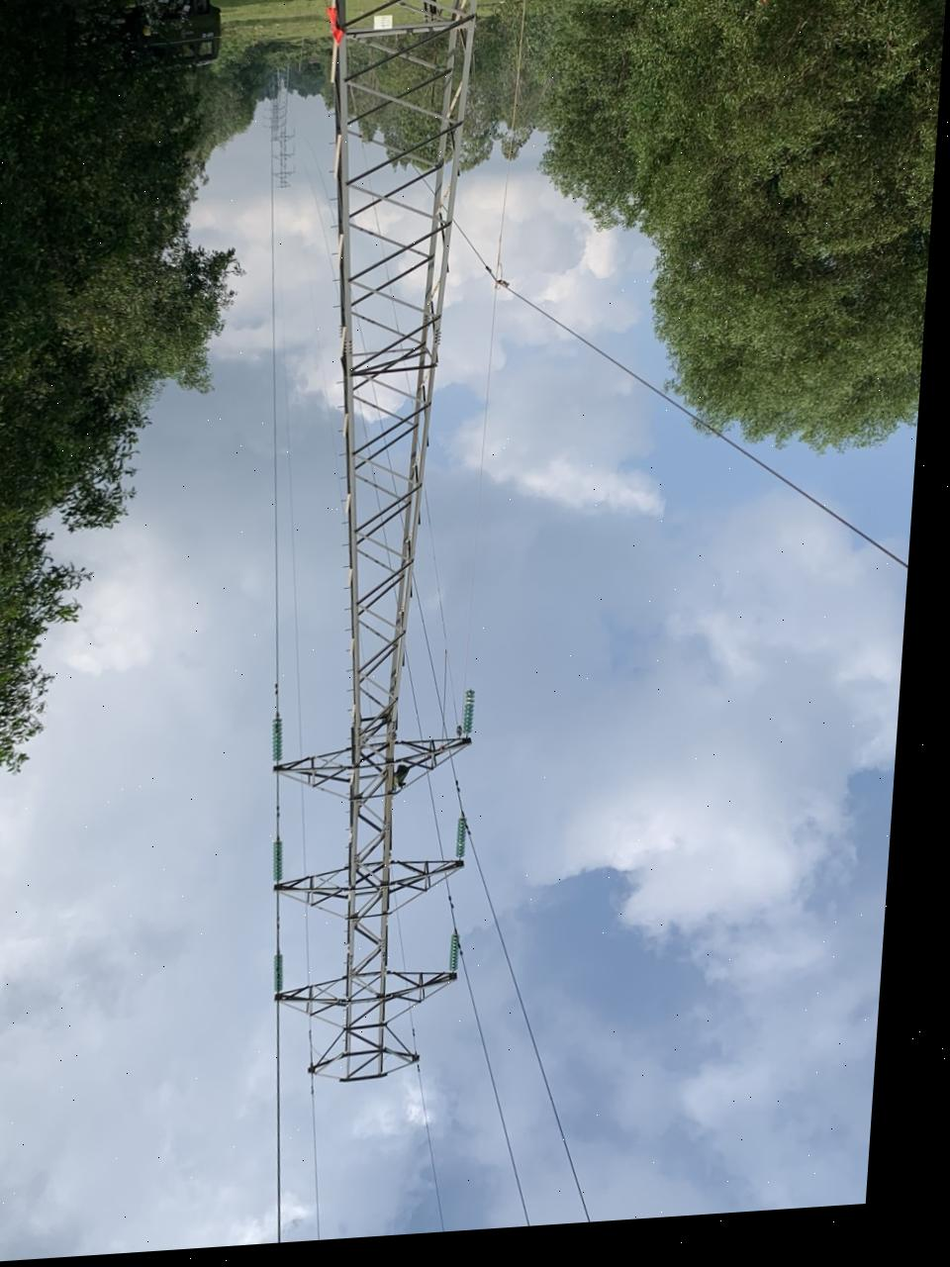tower: (235, 0, 542, 1120)
